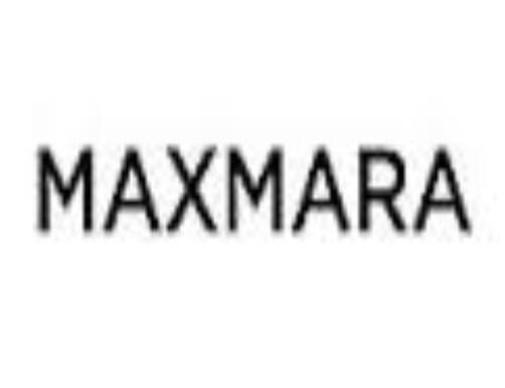MAX-MARA: (30, 143, 478, 237)
